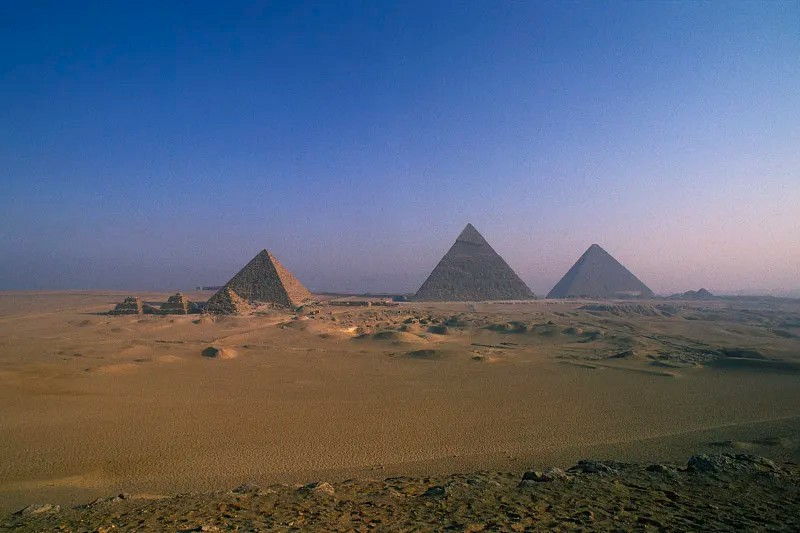Pyramid: (412, 224, 538, 302), (211, 251, 320, 308), (546, 245, 658, 299), (205, 288, 253, 314), (159, 291, 199, 314), (110, 295, 150, 315)
